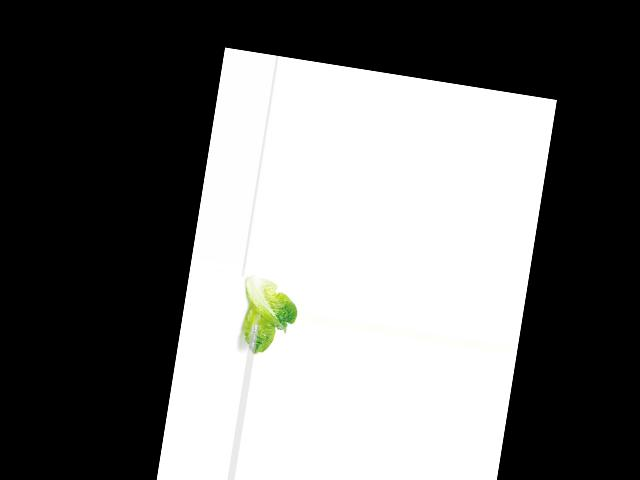lettuce: (237, 273, 302, 361)
